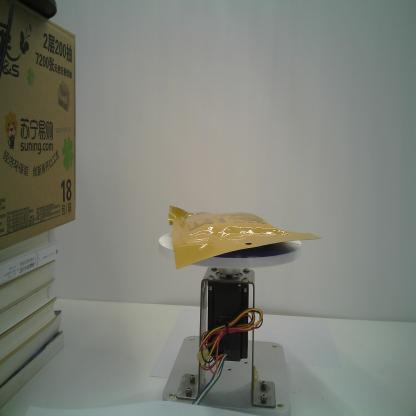Dried Fruit: (167, 203, 322, 271)
